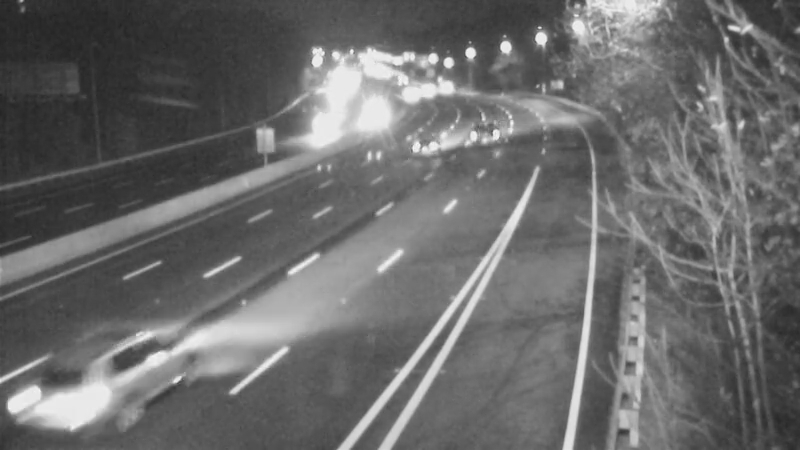vehicle: (8, 344, 118, 450), (384, 69, 434, 119), (458, 97, 508, 147), (393, 121, 443, 171), (292, 99, 342, 149), (343, 88, 393, 138)
